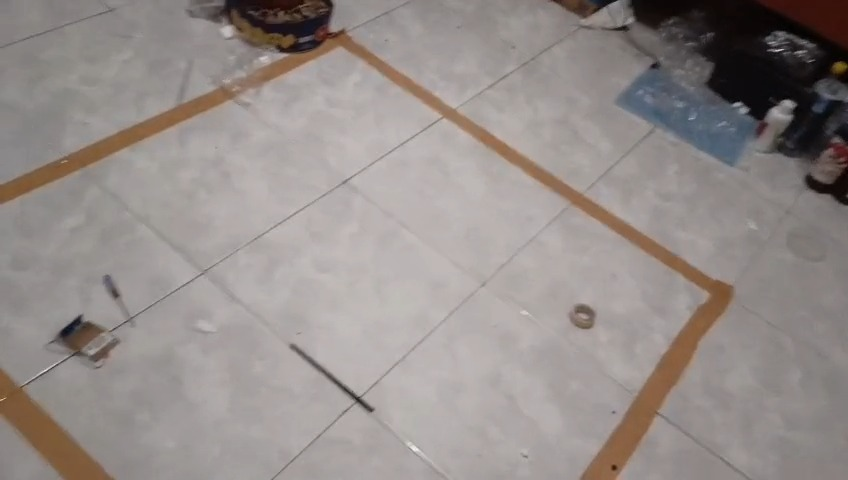floor marking: (257, 34, 733, 479), (0, 89, 233, 203), (0, 390, 108, 479)
